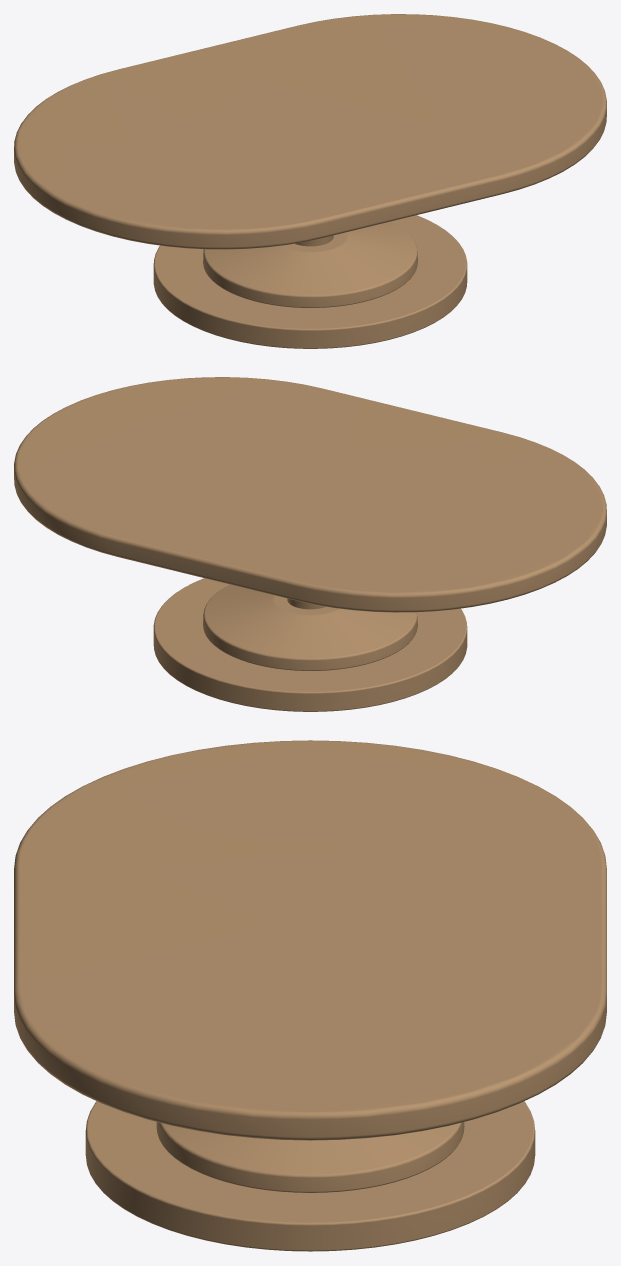
Rendered from SM_Kitchen_Table_01.fbx.
3 renders of one model, top to bottom at view 1: azimuth 30°, elevation 25°; view 2: azimuth 150°, elevation 25°; view 3: azimuth 270°, elevation 25°, orthographic. The views are drawn at different scales.
Visible parts, largest first — view 1: TEESTET; view 2: TEESTET; view 3: TEESTET.
Part boxes in pixels (bbox=[...]): TEESTET: bbox=[14, 14, 606, 348]; TEESTET: bbox=[14, 377, 606, 711]; TEESTET: bbox=[14, 740, 606, 1251].
Bounding box in the file's own units: 300 × 85.92 × 200.
